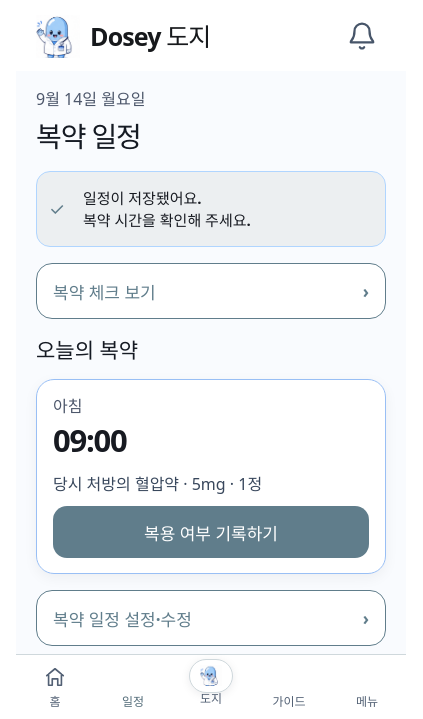
Test: production 복약 일정 › 일정 설정 진입 시 고정 시각 설정 Source만 표시한다
Click the button "복약 일정 설정·수정 ›".
click(122, 619)  # box [36,590,386,646]
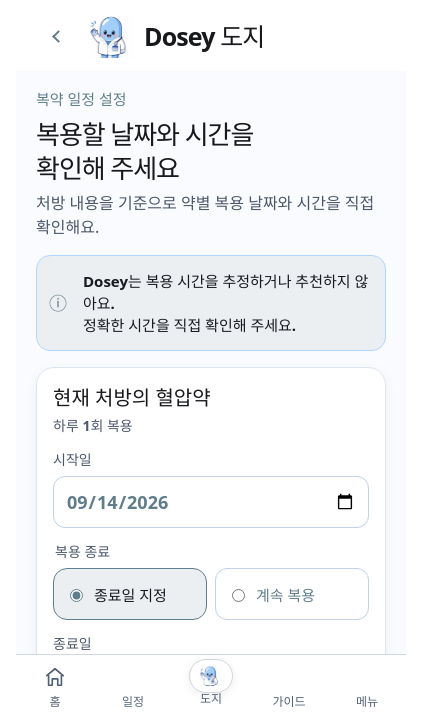
Expected: the heading named "복용할 날짜와 시간을 확인해 주세요" is shown, [36,116,253,186]
Expected: the text "복약 일정 설정" is shown, [36,89,127,109]
Expected: the heading "오늘의 복약" is gone
